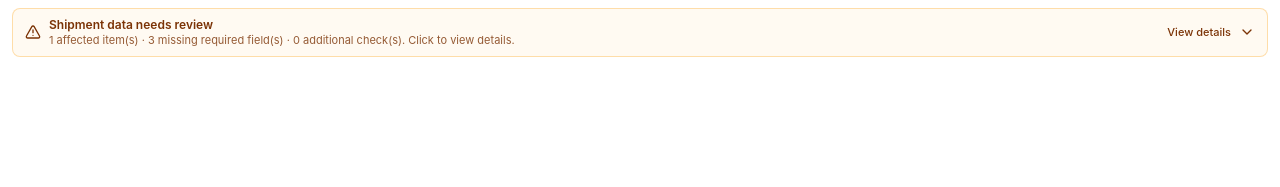
Test case: manifest review problems alert › keeps precise English item details collapsed until requested
Expected: the text "Shipment data needs review" is shown, top-left (49, 17), bottom-right (213, 32)
Expected: the text "Purchase Price" is not shown
Click the button "Shipment data needs review" at (131, 24), box top-left (13, 9), bottom-right (1267, 56)
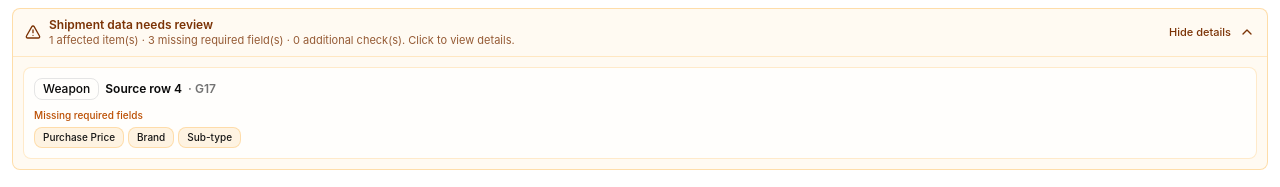
Expected: the text "Source row 4" is shown, top-left (105, 81), bottom-right (182, 97)
Expected: the text "Purchase Price" is shown, top-left (34, 127), bottom-right (124, 148)
Expected: the text "Brand" is shown, top-left (128, 127), bottom-right (174, 148)
